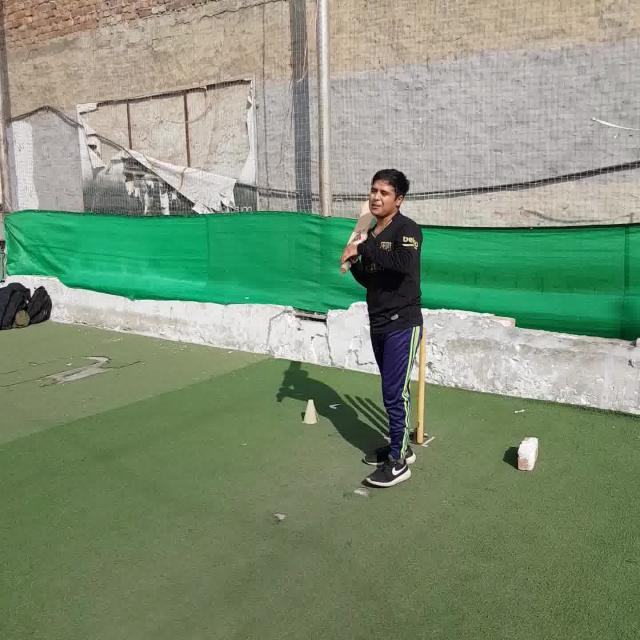bat: (340, 199, 372, 272)
